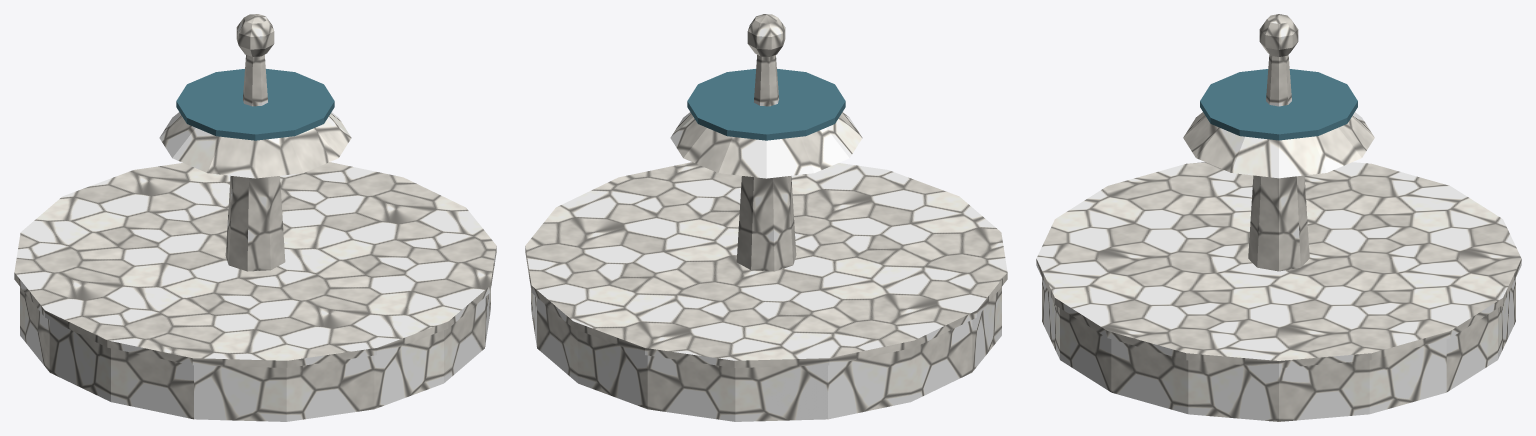
The model's file is fontana.obj.
The picture shows the model from 3 angles, left to right: view 1: azimuth 30°, elevation 25°; view 2: azimuth 150°, elevation 25°; view 3: azimuth 270°, elevation 25°; orthographic projection.
Visible parts, largest first — view 1: pietra_001, pietra_000, liscio_002; view 2: pietra_001, pietra_000, liscio_002; view 3: pietra_001, pietra_000, liscio_002.
Part boxes in pixels (x1=…): pietra_001: x1=14, y1=14, x2=496, y2=367; pietra_000: x1=20, y1=55, x2=490, y2=421; liscio_002: x1=176, y1=69, x2=334, y2=140; pietra_001: x1=525, y1=14, x2=1007, y2=367; pietra_000: x1=531, y1=55, x2=1001, y2=421; liscio_002: x1=687, y1=69, x2=845, y2=140; pietra_001: x1=1036, y1=14, x2=1521, y2=367; pietra_000: x1=1042, y1=55, x2=1515, y2=421; liscio_002: x1=1200, y1=69, x2=1357, y2=140.
Bounding box in the file's own units: 4.3 × 3 × 4.3.
Materials: 3 (2 with a texture image).
